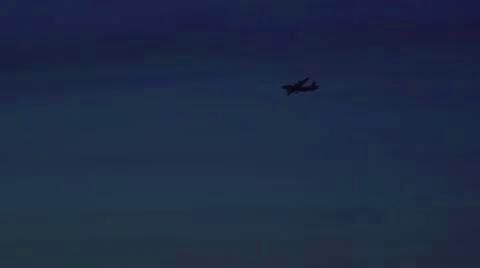Plane: (265, 68, 338, 104)
